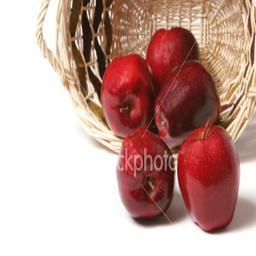apple: (176, 121, 241, 233), (117, 130, 176, 221), (154, 60, 221, 135), (101, 54, 151, 135), (147, 27, 199, 78)
